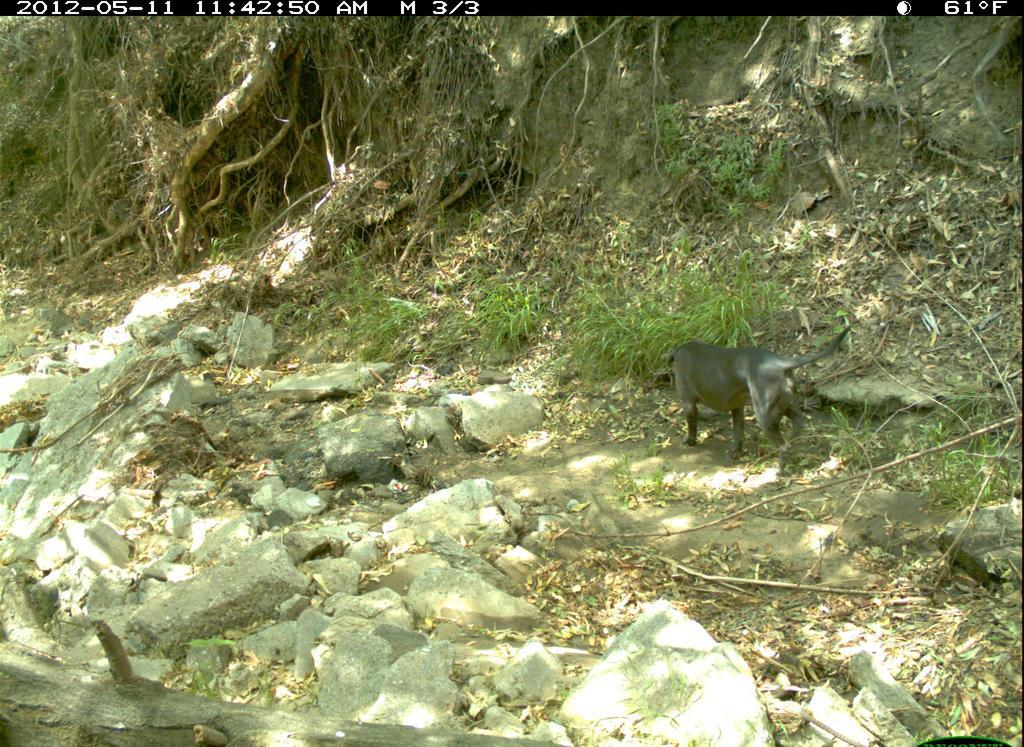dog: (660, 314, 862, 478)
